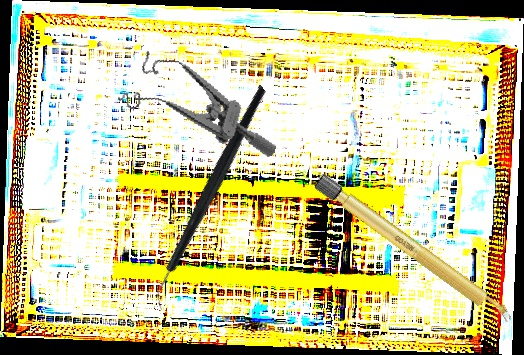Chopper: (94, 84, 330, 314)
Scalpel Handle: (312, 172, 517, 329)
Speculum: (113, 46, 292, 159)
